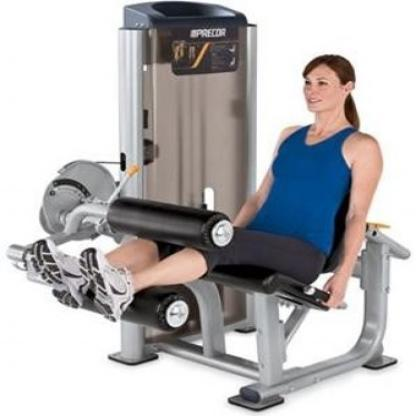leg extension: (8, 0, 412, 414)
